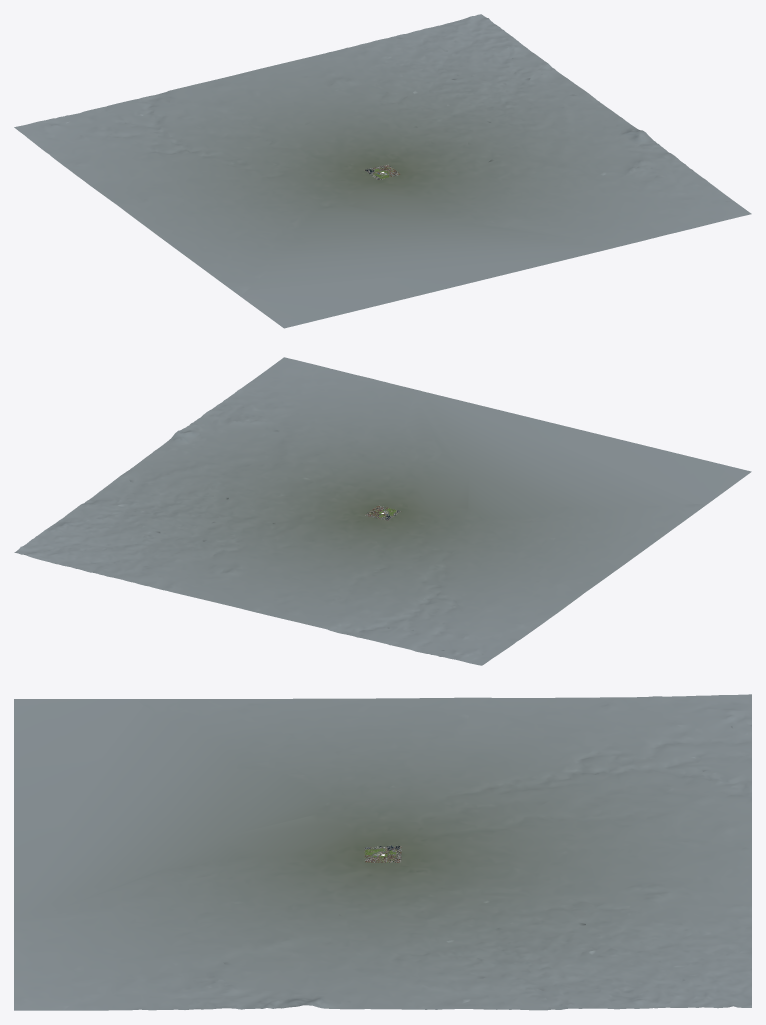
File: mcg_backdrop_part1.glb
3 views of the same model, one above another, from view 1: azimuth 30°, elevation 25°; view 2: azimuth 150°, elevation 25°; view 3: azimuth 270°, elevation 25° (orthographic). The views are drawn at different scales.
Parts seen in each view (by area): view 1: bg_far_terrain; view 2: bg_far_terrain; view 3: bg_far_terrain.
Part boxes in pixels (bbox=[...]): bg_far_terrain: bbox=[14, 14, 751, 328]; bg_far_terrain: bbox=[14, 357, 751, 665]; bg_far_terrain: bbox=[14, 694, 751, 1010].
Size of the model in its own units: 60001 by 575 by 60001.
Materials: 48 (42 with a texture image).
